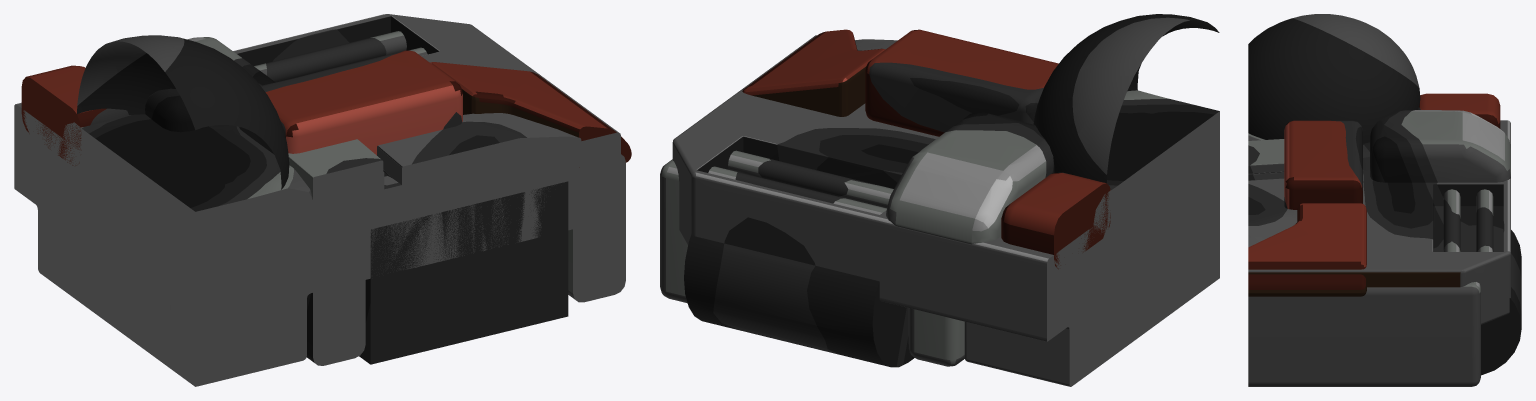
Rendered from track_carrier_tr_damaged.glb.
The picture shows the model from 3 angles, left to right: view 1: azimuth 30°, elevation 25°; view 2: azimuth 150°, elevation 25°; view 3: azimuth 270°, elevation 25°; orthographic projection. The views are drawn at different scales.
Visible parts, largest first — view 1: track_carrier_tr_damaged; view 2: track_carrier_tr_damaged; view 3: track_carrier_tr_damaged.
Boxes of the visible parts, box(x1,y1,x2,y2) form: track_carrier_tr_damaged: box(14, 14, 631, 386); track_carrier_tr_damaged: box(660, 14, 1219, 386); track_carrier_tr_damaged: box(1248, 14, 1521, 386).
Bounding box in the file's own units: 22.3 × 15.6 × 16.7.
